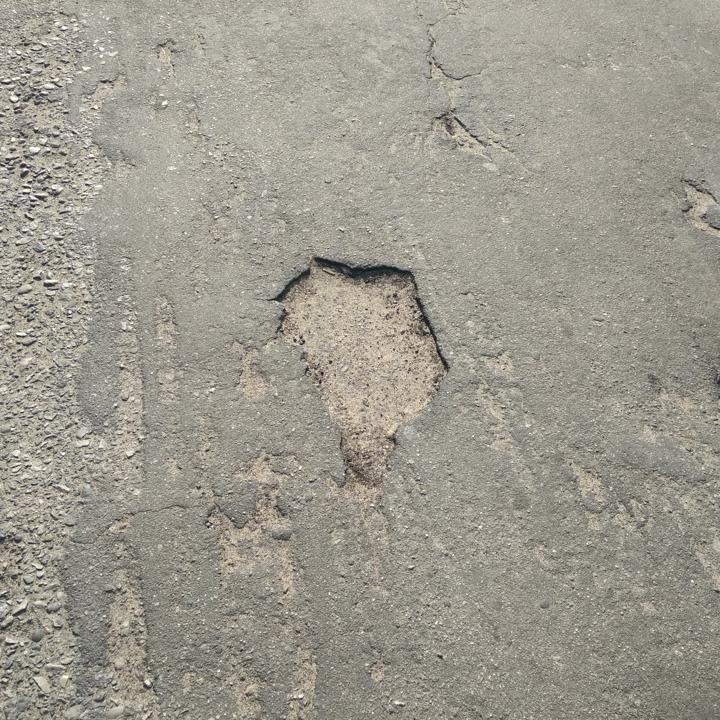pothole: (263, 251, 454, 483), (676, 178, 720, 240), (438, 111, 487, 157)
